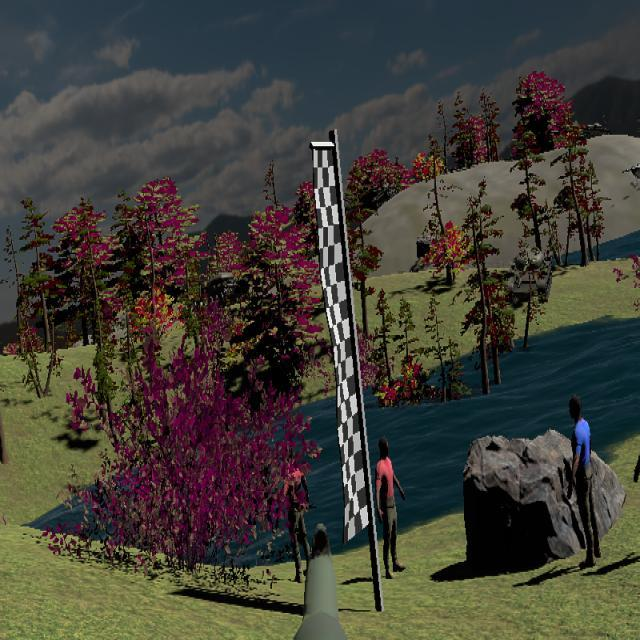Human: (568, 395, 598, 563), (375, 436, 407, 578)
Tank: (507, 249, 552, 305), (621, 159, 640, 193)
